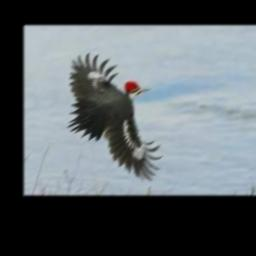Woodpecker: (67, 52, 163, 180)
